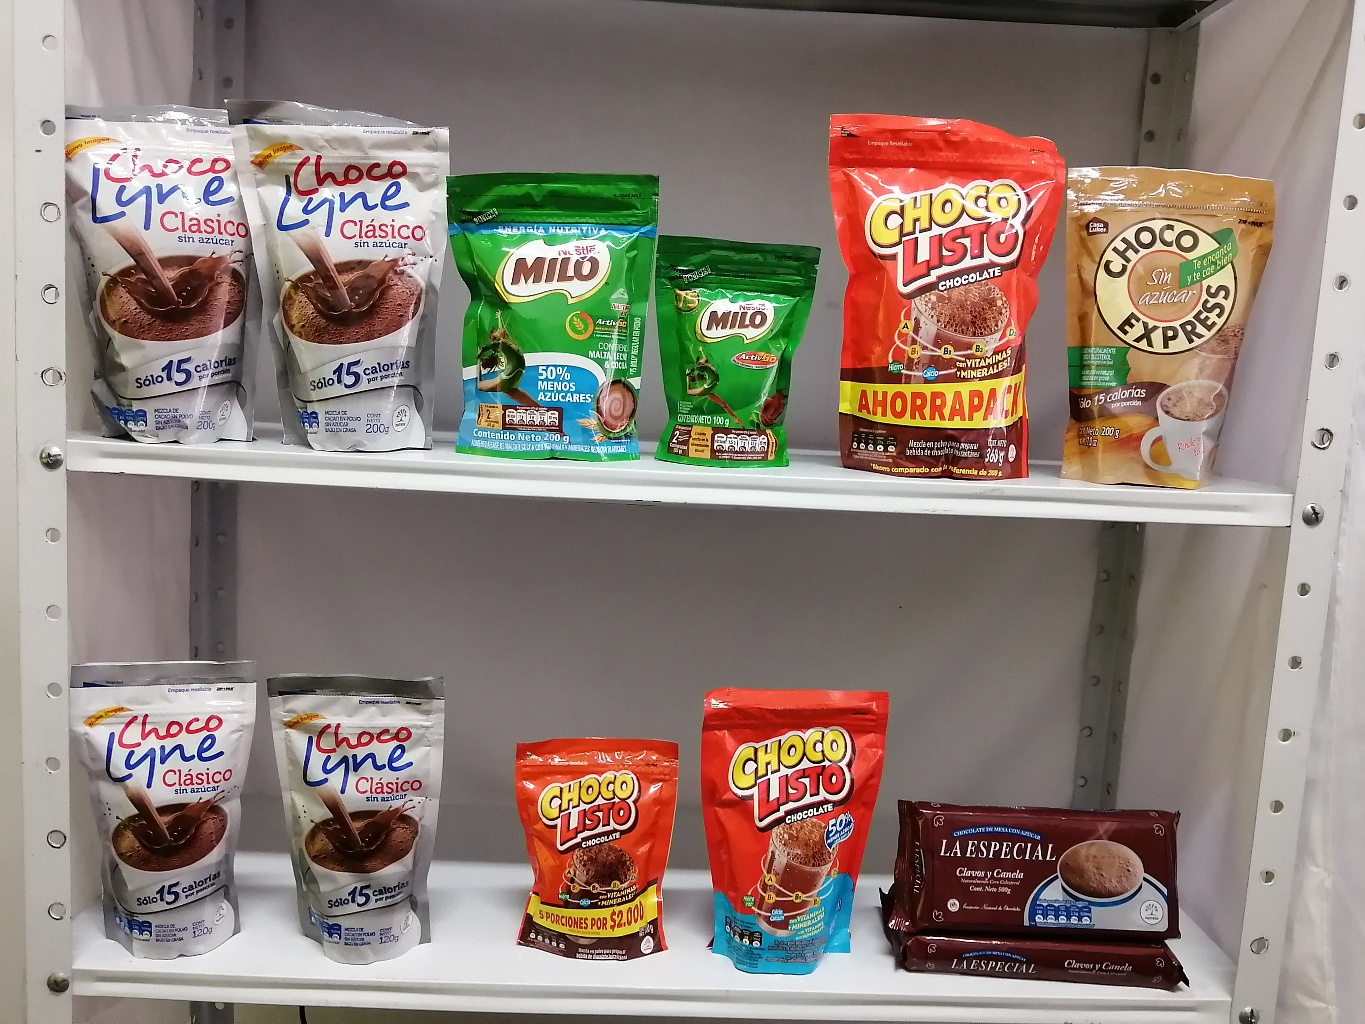COL0170103DYP36000: (820, 110, 1067, 478)
COL0170104DYP20000: (691, 678, 893, 976)
COL0170203DYP10000: (655, 234, 824, 471)
COL0170205DYP20000: (453, 166, 660, 463)
